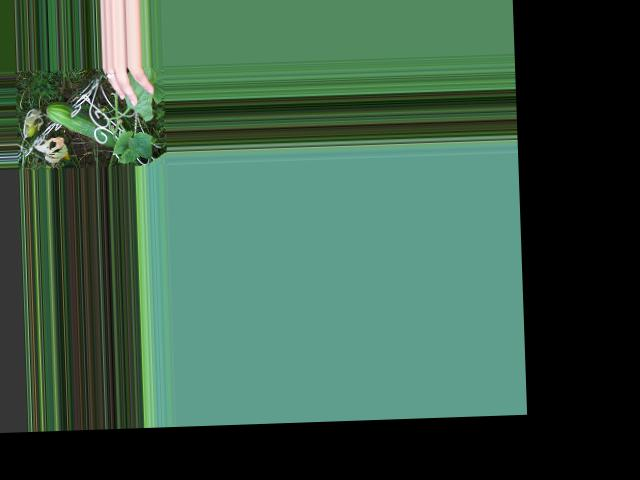cucumber: (46, 99, 117, 149)
